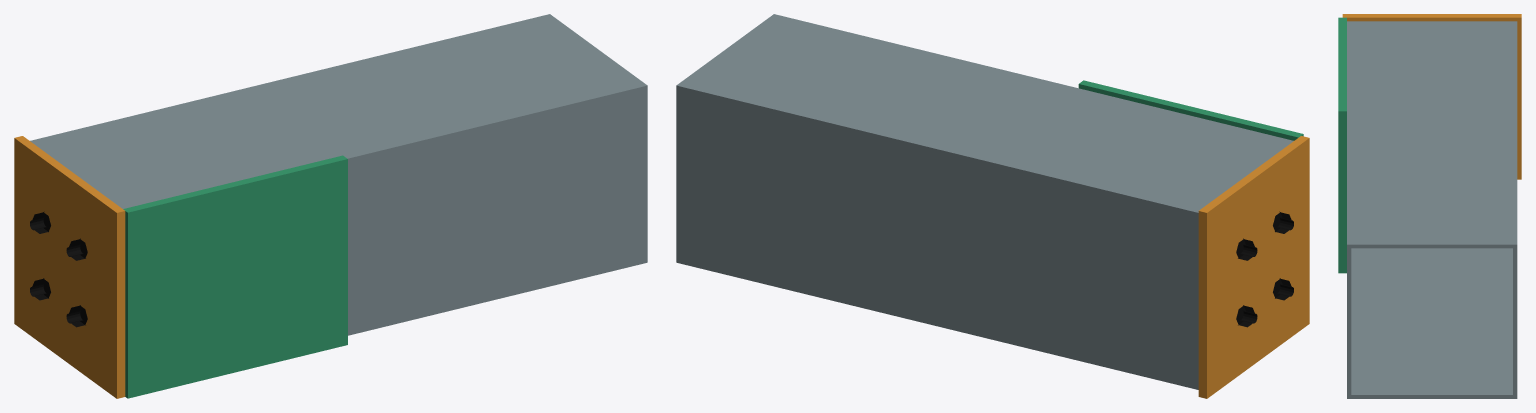
The model's file is detail_E_rhs_connection.obj.
3 views of the same model, side by side, from view 1: azimuth 30°, elevation 25°; view 2: azimuth 150°, elevation 25°; view 3: azimuth 270°, elevation 25° (orthographic). The views are drawn at different scales.
Visible parts, largest first — view 1: E_SHS200x200x5_top_wall, E_SHS200x200x5_right_wall, E_PL10_top_cover_plate, E_PL10_end_plate_210x210, E_SHS200x200x5_bottom_wall; view 2: E_SHS200x200x5_bottom_wall, E_SHS200x200x5_right_wall, E_PL10_end_plate_210x210, E_PL10_top_cover_plate, E_SHS200x200x5_top_wall; view 3: E_SHS200x200x5_right_wall, E_SHS200x200x5_left_wall, E_PL10_top_cover_plate, E_PL10_end_plate_210x210, E_SHS200x200x5_top_wall, E_SHS200x200x5_bottom_wall.
Part boxes in pixels (<box>): E_SHS200x200x5_top_wall: <box>345,84,647,335</box>; E_SHS200x200x5_right_wall: <box>32,16,644,208</box>; E_PL10_top_cover_plate: <box>123,155,347,398</box>; E_PL10_end_plate_210x210: <box>14,136,125,398</box>; E_SHS200x200x5_bottom_wall: <box>30,14,551,142</box>; E_SHS200x200x5_bottom_wall: <box>676,84,1198,389</box>; E_SHS200x200x5_right_wall: <box>679,16,1291,210</box>; E_PL10_end_plate_210x210: <box>1198,136,1309,398</box>; E_PL10_top_cover_plate: <box>1078,80,1303,140</box>; E_SHS200x200x5_top_wall: <box>772,14,1293,142</box>; E_SHS200x200x5_right_wall: <box>1351,21,1512,248</box>; E_SHS200x200x5_left_wall: <box>1351,248,1512,398</box>; E_PL10_top_cover_plate: <box>1338,17,1346,273</box>; E_PL10_end_plate_210x210: <box>1342,14,1521,179</box>; E_SHS200x200x5_top_wall: <box>1347,21,1351,398</box>; E_SHS200x200x5_bottom_wall: <box>1513,21,1517,398</box>.
Size of the model in its own units: 648 by 210 by 215.
